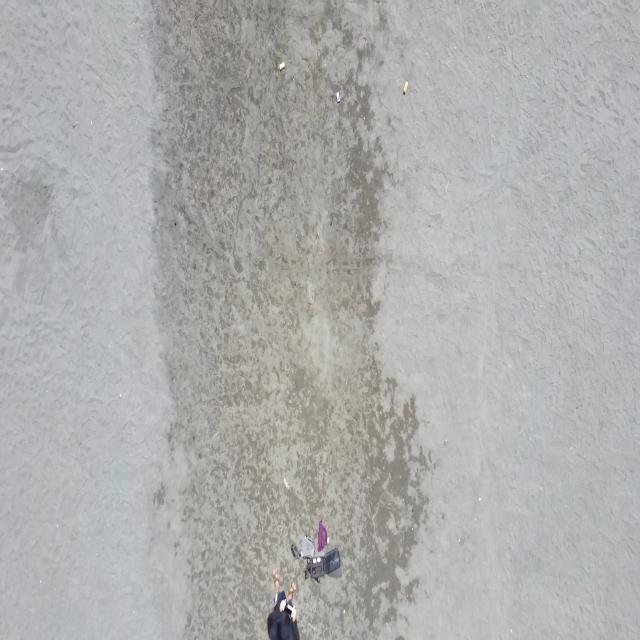retort-pouch: (402, 79, 408, 95), (335, 90, 341, 104), (279, 59, 285, 72)
